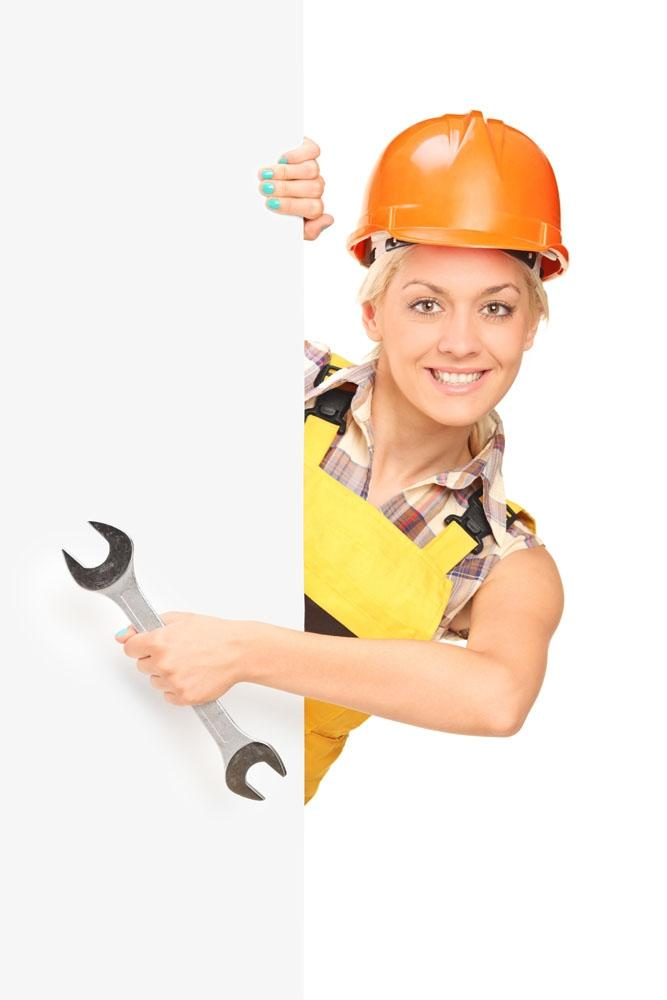helmet: (343, 111, 573, 281)
